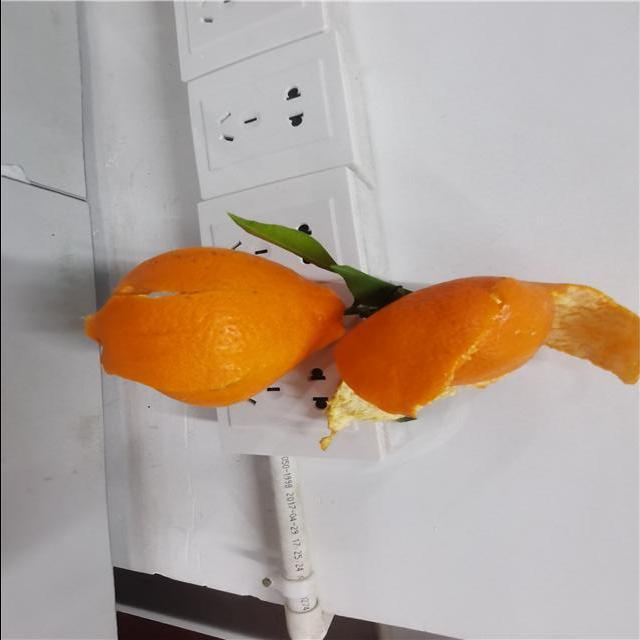orange peel: (323, 276, 640, 434), (84, 245, 346, 412)
